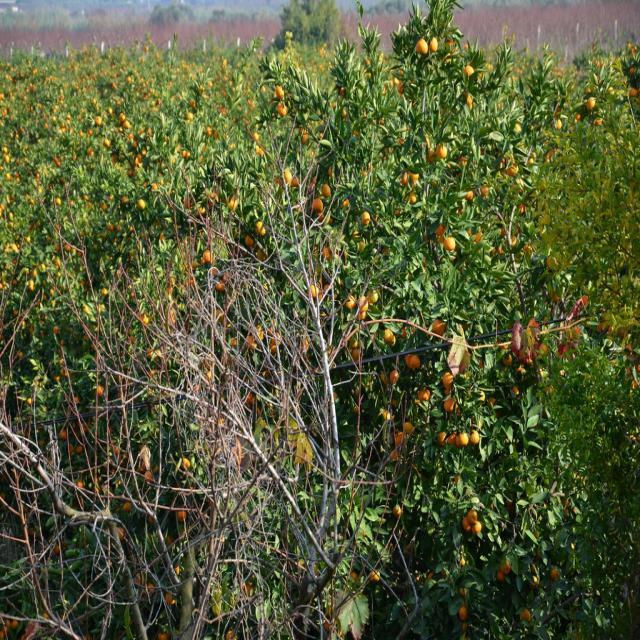Orange: (439, 231, 459, 252)
